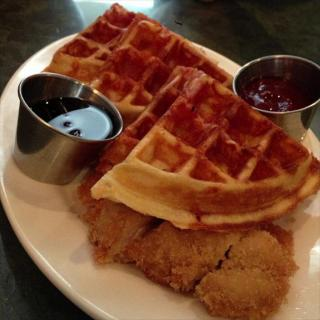Waffle: (92, 73, 320, 233), (92, 11, 235, 124), (40, 2, 220, 82), (96, 64, 192, 173)
